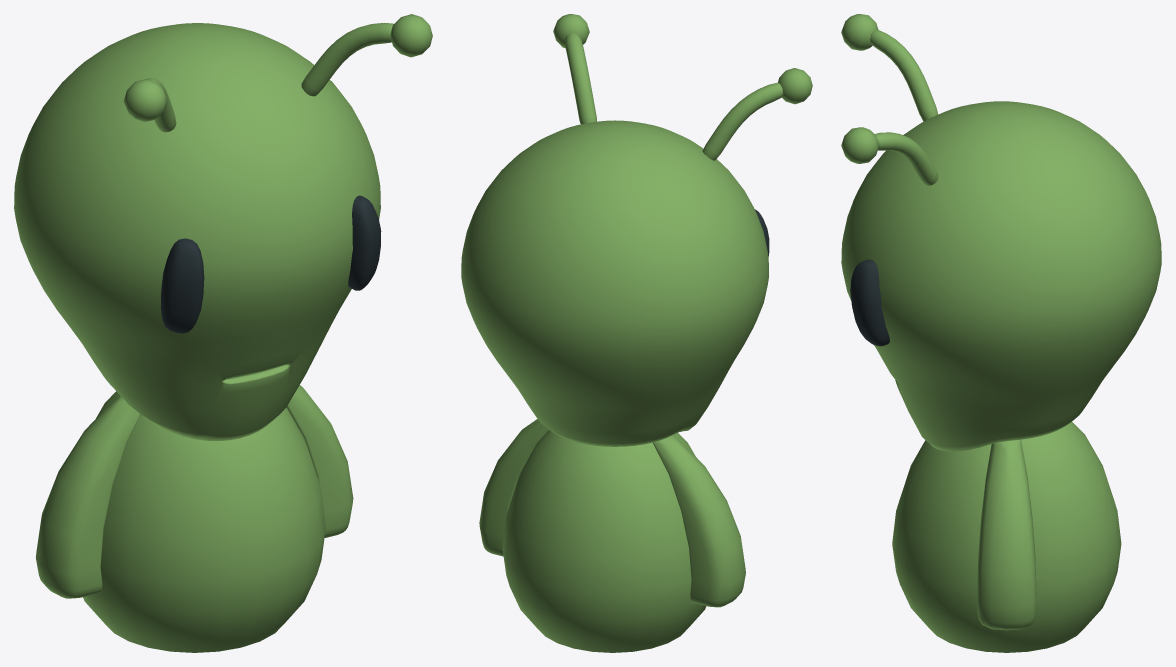
The model's file is Character_Alien.fbx.
3 renders of one model, left to right at view 1: azimuth 30°, elevation 25°; view 2: azimuth 150°, elevation 25°; view 3: azimuth 270°, elevation 25°, orthographic. The views are drawn at different scales.
Parts seen in each view (by area): view 1: character_alienHead, character_alien, character_alienArmRight, character_alienArmLeft; view 2: character_alienHead, character_alien, character_alienArmRight, character_alienArmLeft; view 3: character_alienHead, character_alien, character_alienArmLeft.
Part boxes in pixels (x1,y1,x2,y2): character_alienHead: (14, 14, 432, 440); character_alien: (83, 391, 325, 652); character_alienArmRight: (35, 395, 140, 598); character_alienArmLeft: (287, 385, 353, 537); character_alienHead: (461, 14, 812, 446); character_alien: (502, 430, 706, 652); character_alienArmRight: (653, 434, 745, 607); character_alienArmLeft: (479, 419, 549, 556); character_alienHead: (841, 14, 1161, 451); character_alien: (892, 422, 1121, 652); character_alienArmLeft: (977, 439, 1036, 630).
Bounding box in the file's own units: 97.74 × 184 × 97.87.
